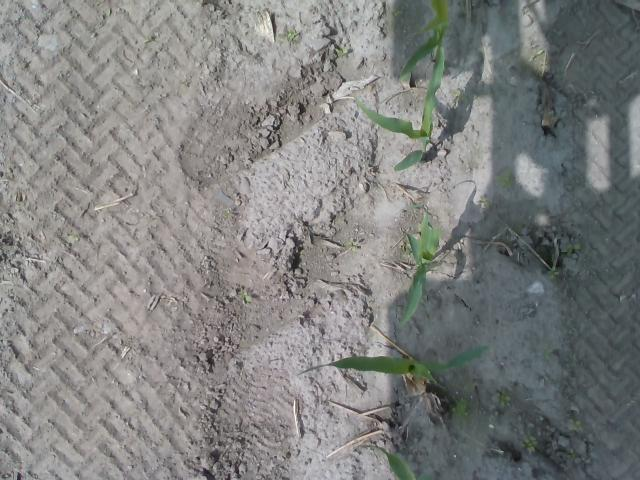Maize: (356, 25, 445, 173), (296, 346, 488, 381), (398, 209, 442, 330), (400, 0, 450, 80), (350, 441, 430, 480)
Weeds: (453, 400, 470, 420), (518, 434, 538, 450), (496, 391, 512, 410), (568, 418, 584, 432), (564, 242, 580, 255), (547, 265, 560, 280), (542, 344, 554, 360), (239, 291, 253, 304), (476, 195, 490, 208), (498, 174, 511, 186), (64, 233, 80, 241), (288, 32, 300, 42), (567, 450, 578, 460), (335, 48, 348, 56), (390, 8, 400, 17), (348, 241, 358, 250)
